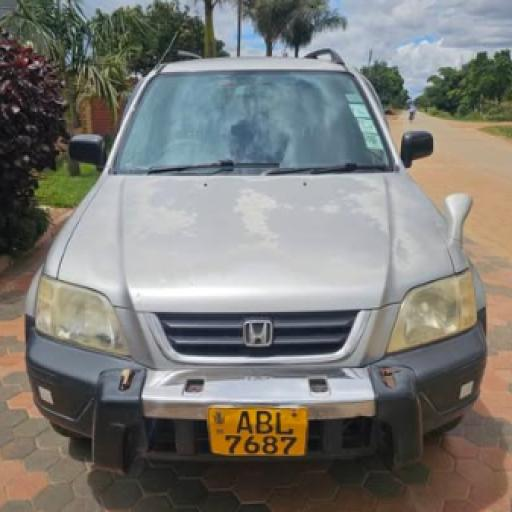number-plates: (208, 403, 304, 459)
